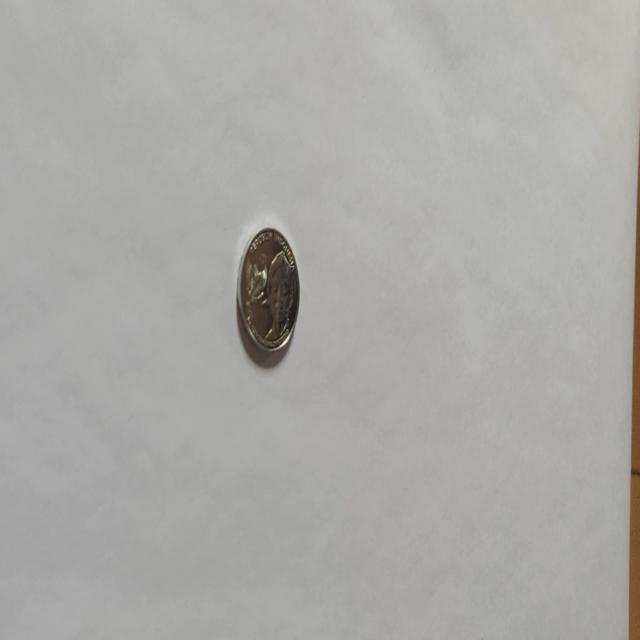dua ratus rupiah: (236, 225, 300, 355)
